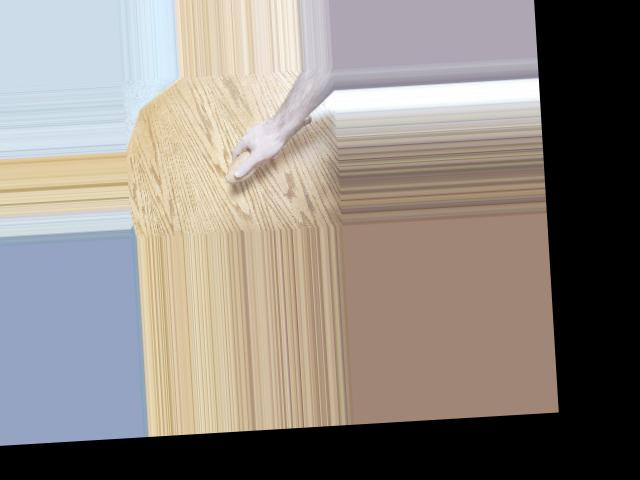sweet_potato: (220, 107, 319, 184)
